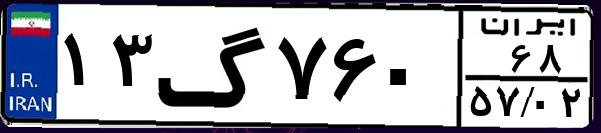0: (385, 28, 445, 110), (535, 70, 560, 125)
1: (57, 26, 110, 100)
2: (560, 70, 590, 125)
3: (110, 28, 156, 98)
5: (470, 70, 495, 125)
6: (330, 28, 385, 110), (508, 27, 537, 80)
7: (270, 28, 330, 110), (495, 70, 520, 125)
8: (537, 27, 568, 80)
گ: (156, 12, 270, 120)
